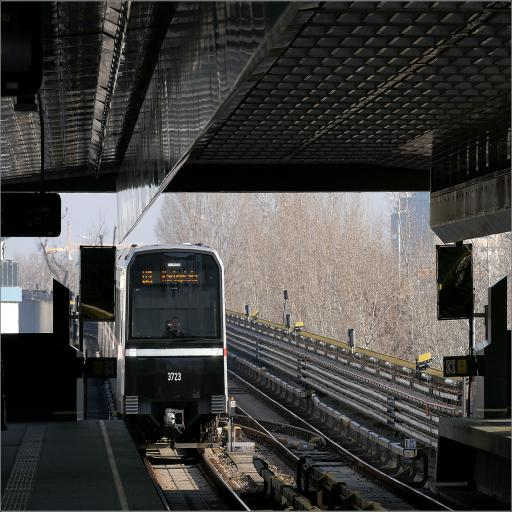X-Wagen: (116, 240, 229, 418)
